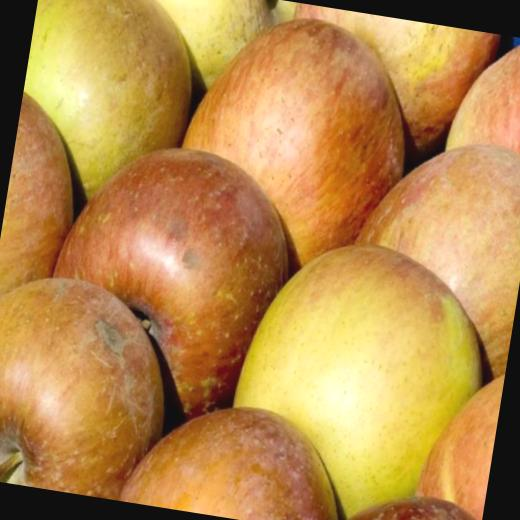Apple: (0, 0, 520, 520), (218, 241, 499, 520)
